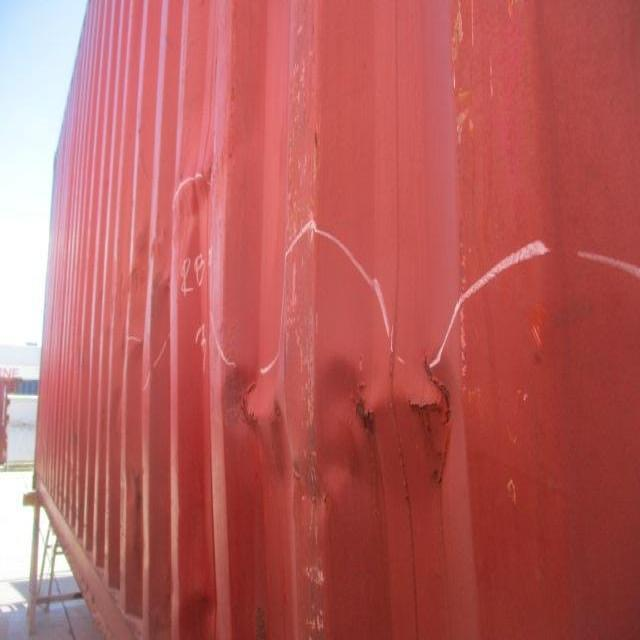dent: (214, 308, 481, 521), (152, 136, 238, 257)
